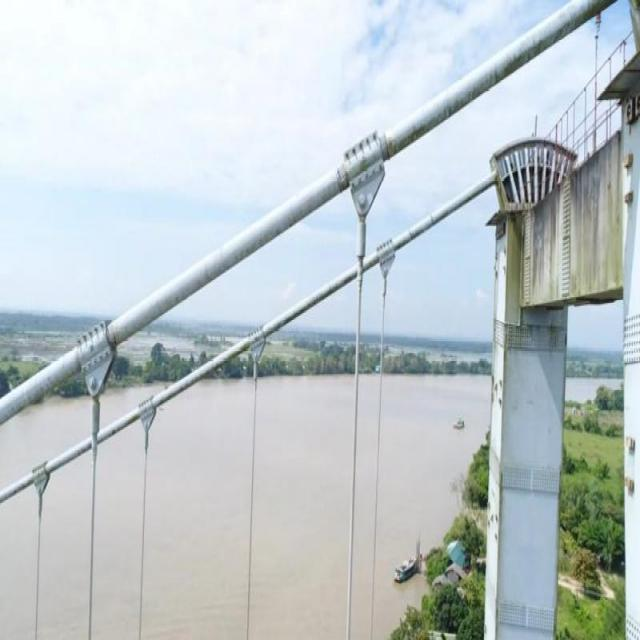Slippage: (337, 164, 350, 190), (378, 132, 389, 162), (106, 323, 117, 350)
